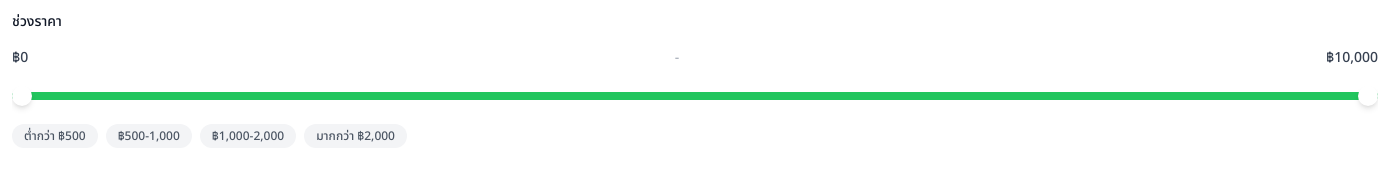
Scenario: PriceFilter Component › quick preset button "฿1,000-2,000" works
The image size is (1390, 172).
Click the button "฿1,000-2,000" at (248, 136), box x1=200 y1=124 x2=296 y2=148
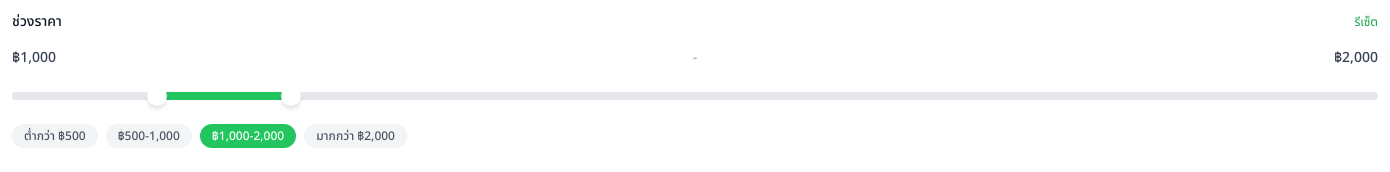
Check: the text "฿1,000" is shown, box x1=12 y1=48 x2=56 y2=68
Check: the text "฿2,000" is shown, box x1=1334 y1=48 x2=1378 y2=68
